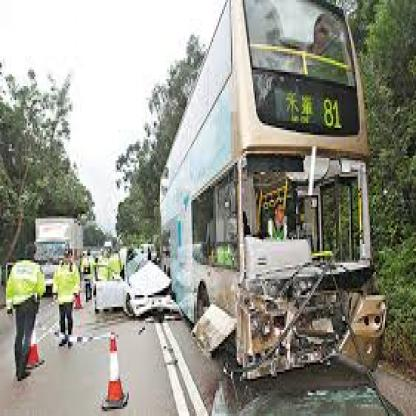accident: (188, 47, 415, 398), (90, 222, 188, 355)
